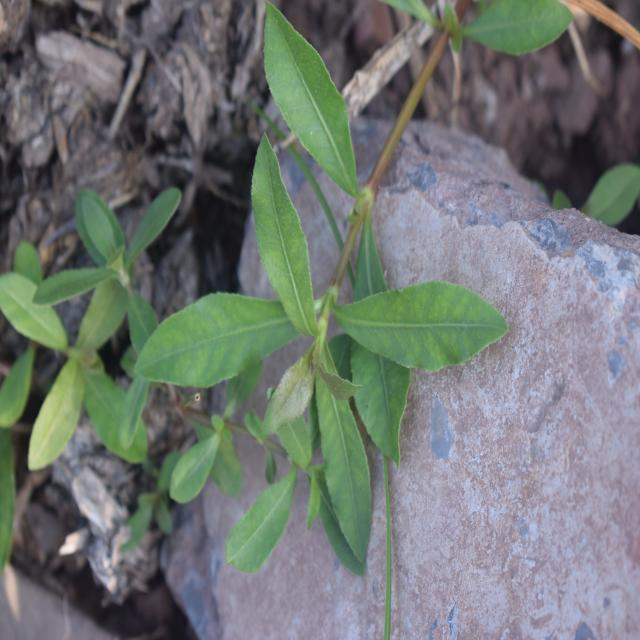Alligatorweed: (196, 49, 456, 530)
